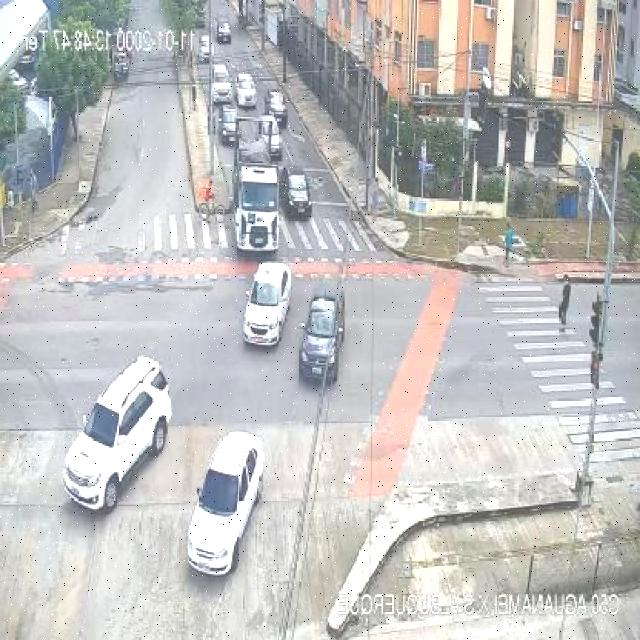Car: (61, 354, 178, 522), (184, 425, 268, 583), (240, 264, 294, 351), (299, 280, 344, 383), (282, 165, 313, 218), (266, 89, 290, 127), (211, 64, 233, 103), (234, 73, 256, 108), (216, 105, 235, 145), (215, 20, 233, 45)
Truck: (233, 117, 280, 254)
